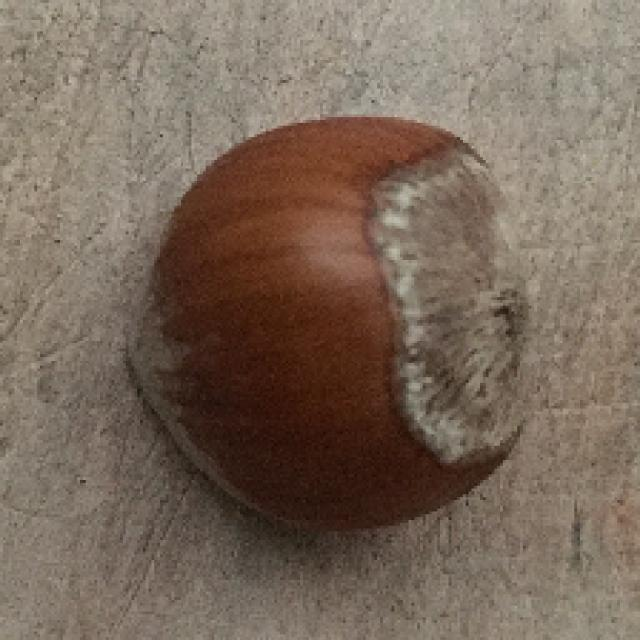qualityHazelnut: (122, 113, 536, 538)
